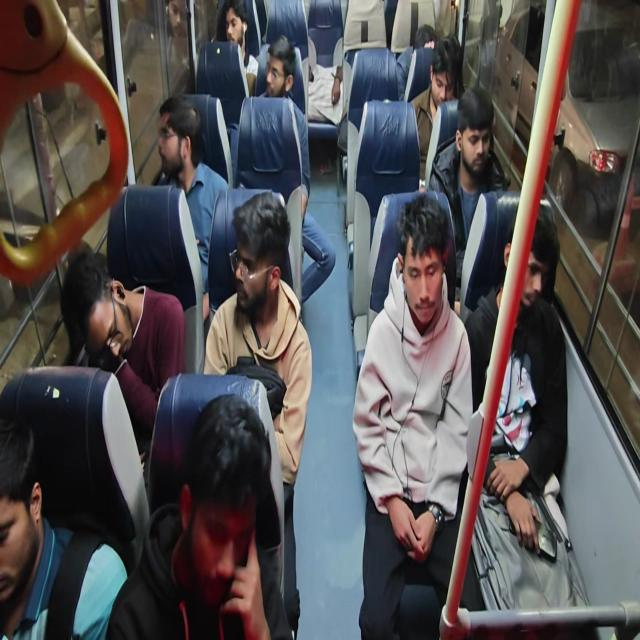person: (454, 198, 595, 636), (352, 192, 475, 638), (203, 190, 313, 636), (105, 393, 275, 639), (0, 412, 128, 639), (60, 248, 186, 464), (258, 34, 336, 304), (426, 85, 509, 288), (155, 96, 229, 320), (409, 34, 463, 187), (305, 0, 347, 125), (216, 0, 258, 98), (396, 23, 436, 101), (164, 0, 195, 96)
